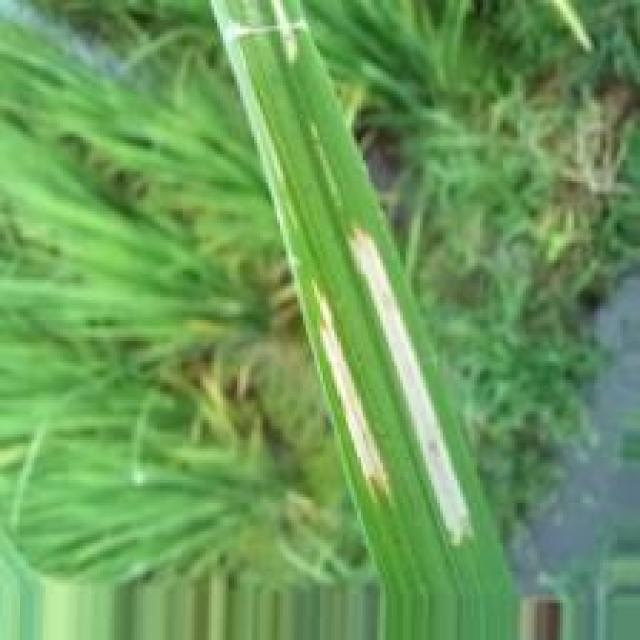Rice_Hispa: (349, 224, 472, 542), (213, 0, 305, 262), (314, 285, 399, 500)
